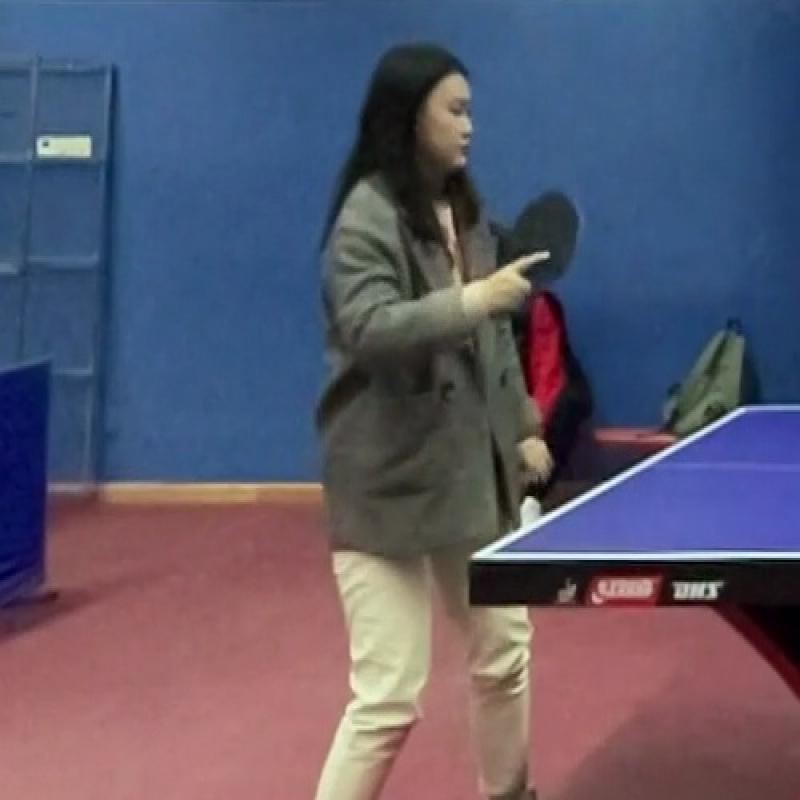bats: (500, 188, 593, 294)
